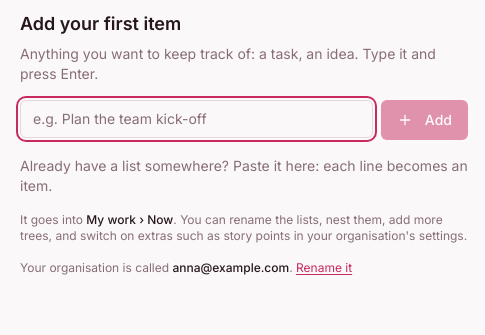
Test: naming the organisation from the first-item box › shows the name it was given and renames it, for the owner
Check: the text "anna@example.com" is shown, box x1=172 y1=260 x2=289 y2=275
Click the button "Rename it" at {"x": 324, "y": 268}, box x1=296 y1=260 x2=352 y2=276
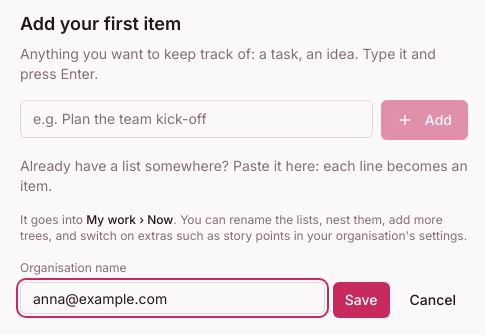
Replace the text in the field labelled "Organisation name" with "  Kick-off team  " at {"x": 172, "y": 298}, box x1=20 y1=282 x2=325 y2=314
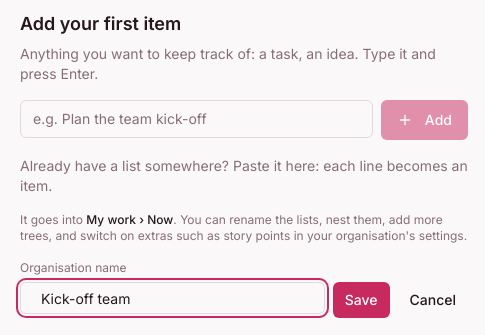
Submit the form "Organisation name", box x1=20 y1=260 x2=468 y2=318
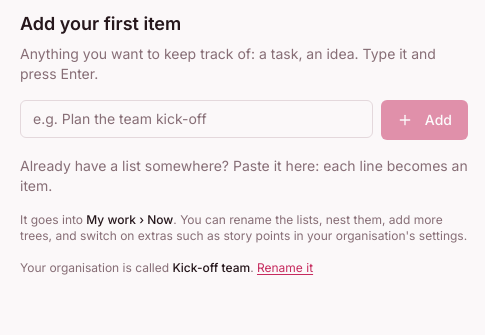
Check: the text "Kick-off team" is shown, box x1=172 y1=260 x2=250 y2=275
Check: the label "Organisation name" is gone
